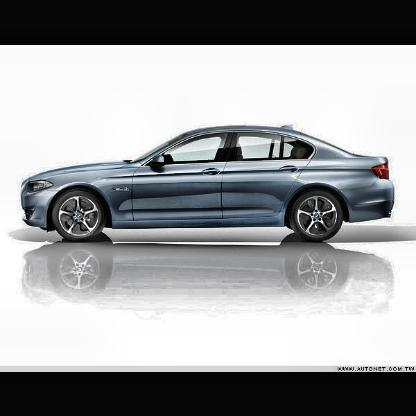BMW ActiveHybrid 5 Sedan 2012: (18, 123, 402, 245)
